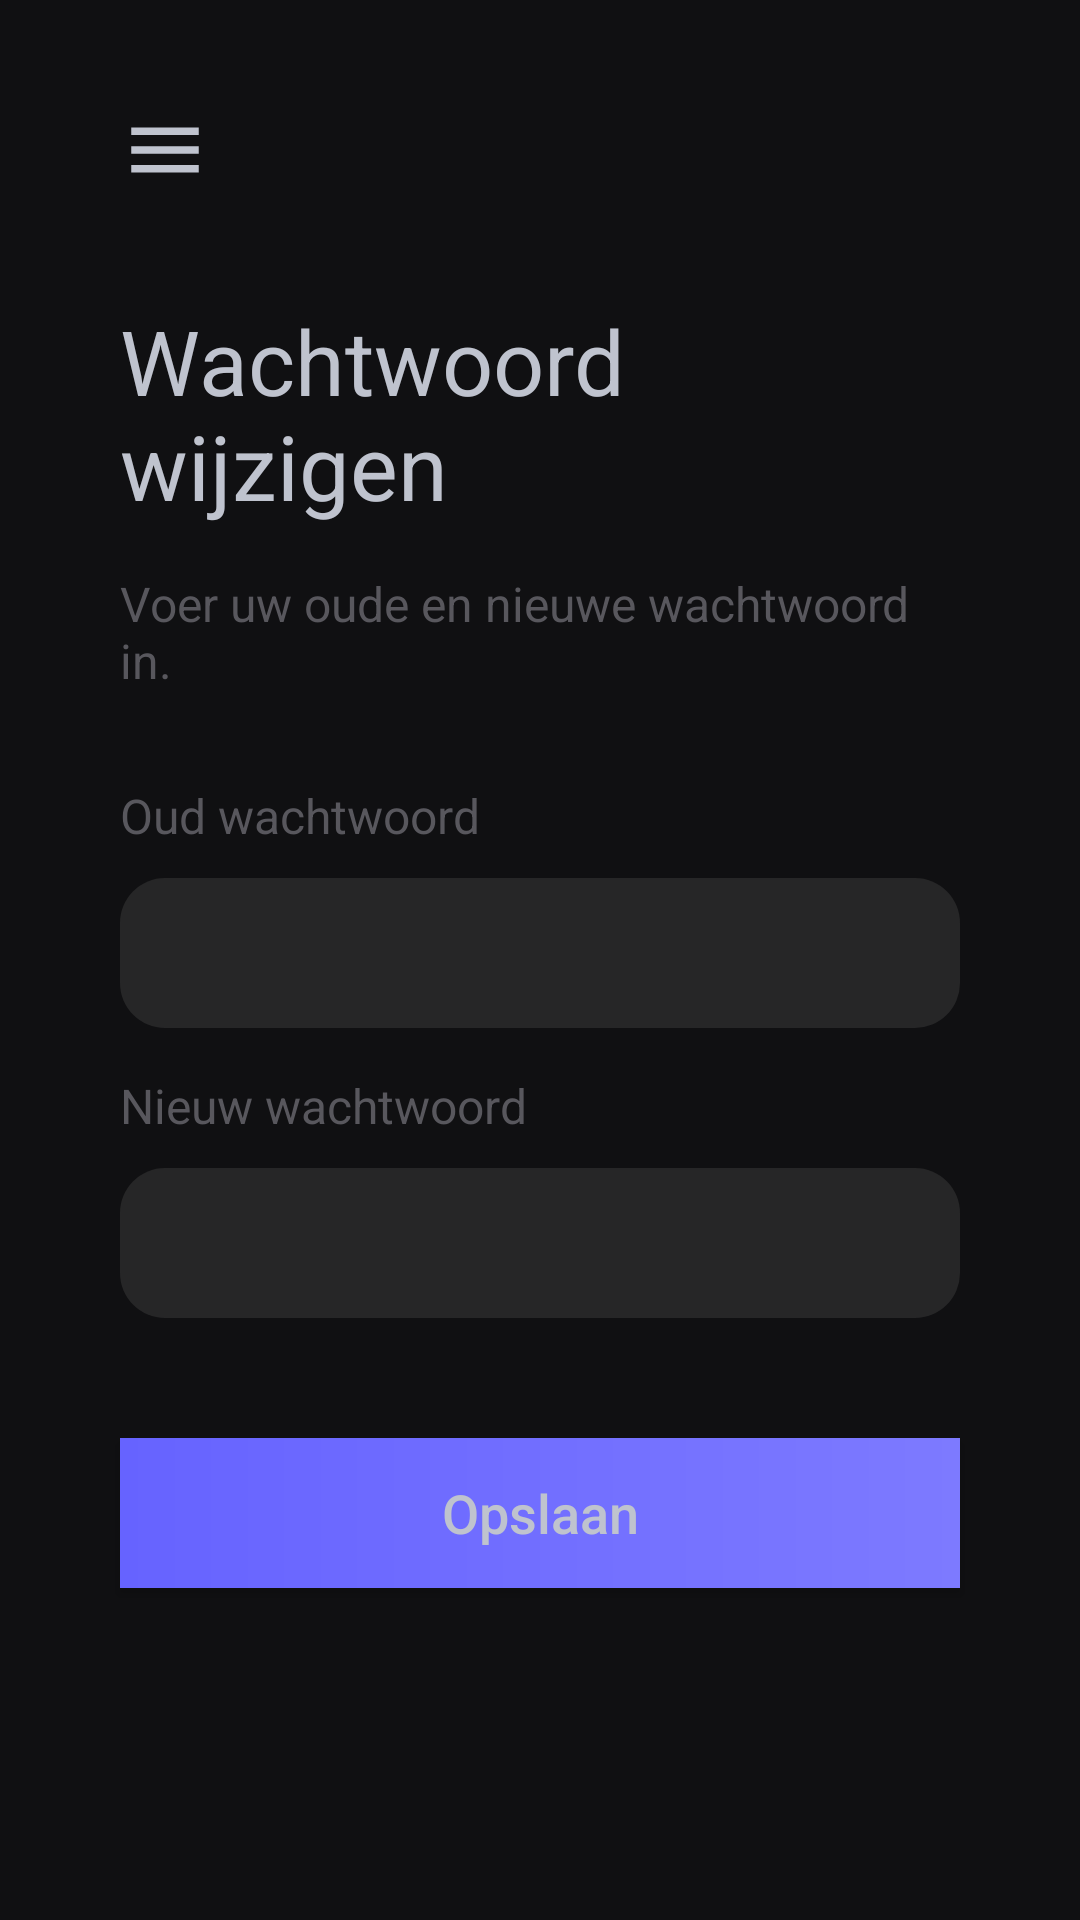

Where to tap for icons on this 1080*1920 app screen, as point (x, y):
menu: point (165, 150)
